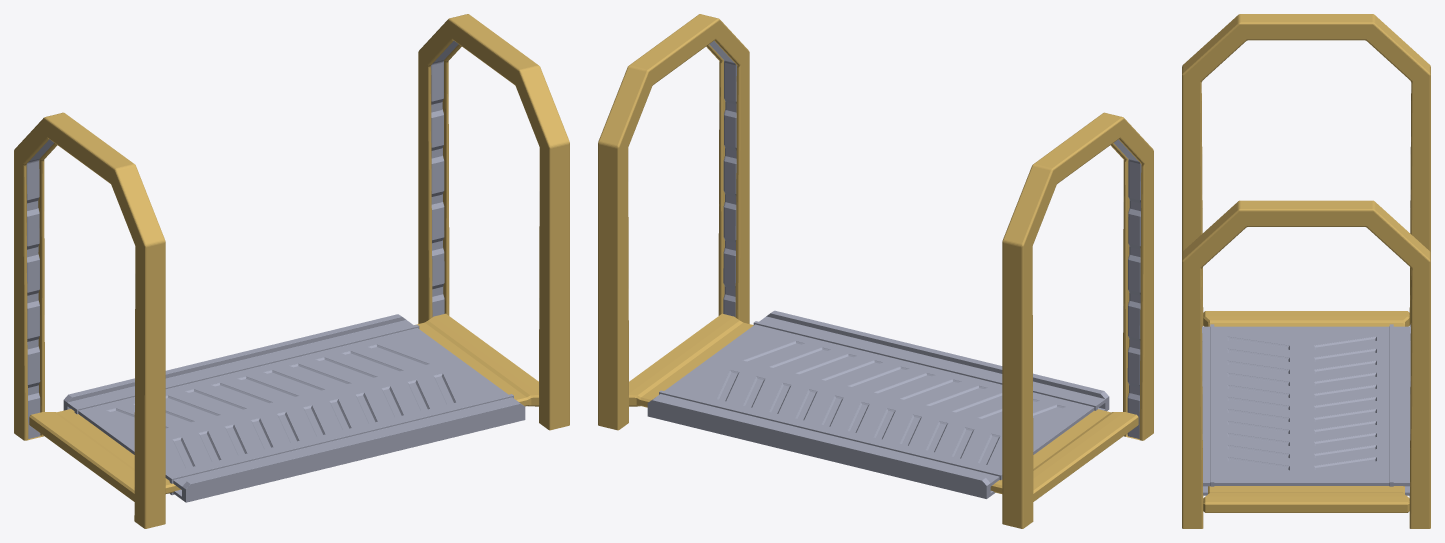
The model's file is MC_EX_Test_Crane.fbx.
The picture shows the model from 3 angles, left to right: view 1: azimuth 30°, elevation 25°; view 2: azimuth 150°, elevation 25°; view 3: azimuth 270°, elevation 25°; orthographic projection. The views are drawn at different scales.
Visible parts, largest first — view 1: Cube.010; view 2: Cube.010; view 3: Cube.010.
Part boxes in pixels (box(x1,y1,x2,y2)): Cube.010: box(14, 14, 569, 528); Cube.010: box(598, 14, 1153, 528); Cube.010: box(1182, 14, 1430, 528).
Size of the model in its own units: 502 by 381 by 269.
